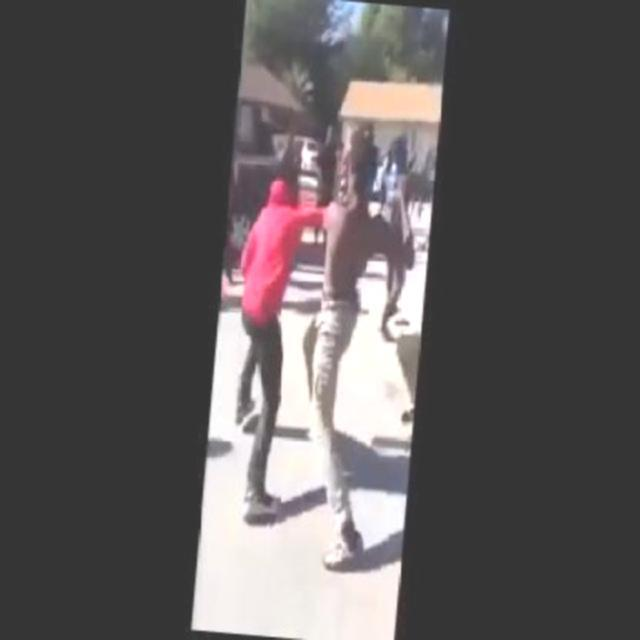fight: (232, 123, 396, 568)
